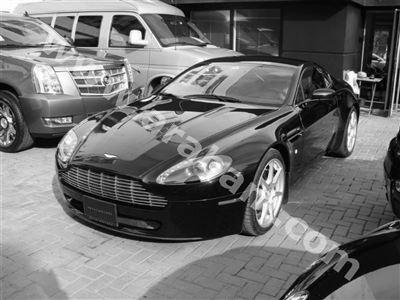car: (53, 53, 362, 244)
